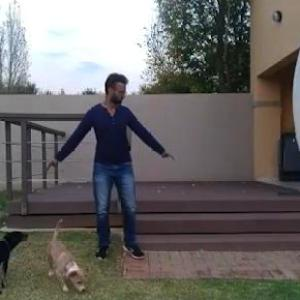land: (49, 86, 195, 251)
